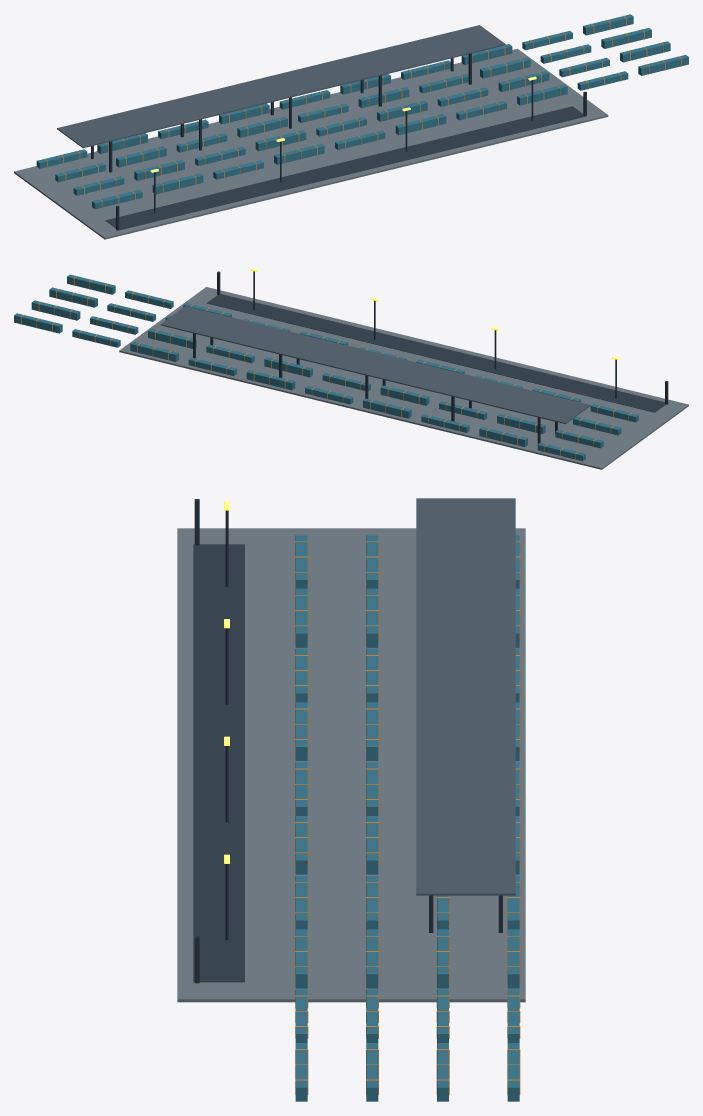
Rendered from steel-stockyard-high.glb.
3 views of the same model, one above another, from view 1: azimuth 30°, elevation 25°; view 2: azimuth 150°, elevation 25°; view 3: azimuth 270°, elevation 25° (orthographic). The views are drawn at different scales.
Visible parts, largest first — view 1: stockyard_slab, open_shed_roof, stockyard_lane, steel_bundle.019, steel_bundle.021, steel_bundle.027, steel_bundle.039, steel_bundle.023, steel_bundle.029, steel_bundle.007, steel_bundle.001, steel_bundle.009 (+31 smaller); view 2: stockyard_slab, open_shed_roof, stockyard_lane, steel_bundle.023, steel_bundle.029, steel_bundle.035, steel_bundle.009, steel_bundle.033, steel_bundle.037, steel_bundle.039, steel_bundle.031, steel_bundle.019 (+17 smaller); view 3: stockyard_slab, open_shed_roof, stockyard_lane.
Boxes of the visible parts, x1=… form: stockyard_slab: x1=14, y1=48, x2=608, y2=239; open_shed_roof: x1=57, y1=25, x2=505, y2=148; stockyard_lane: x1=105, y1=106, x2=586, y2=230; steel_bundle.019: x1=620, y1=41, x2=670, y2=62; steel_bundle.021: x1=116, y1=146, x2=166, y2=167; steel_bundle.027: x1=480, y1=57, x2=530, y2=78; steel_bundle.039: x1=583, y1=14, x2=633, y2=35; steel_bundle.023: x1=237, y1=116, x2=287, y2=137; steel_bundle.029: x1=601, y1=28, x2=651, y2=48; steel_bundle.007: x1=517, y1=84, x2=567, y2=105; steel_bundle.001: x1=152, y1=173, x2=203, y2=194; steel_bundle.009: x1=638, y1=55, x2=688, y2=75; stockyard_slab: x1=119, y1=287, x2=688, y2=469; open_shed_roof: x1=160, y1=306, x2=590, y2=423; stockyard_lane: x1=207, y1=294, x2=665, y2=412; steel_bundle.023: x1=380, y1=385, x2=429, y2=405; steel_bundle.029: x1=31, y1=300, x2=80, y2=320; steel_bundle.035: x1=246, y1=370, x2=295, y2=390; steel_bundle.009: x1=67, y1=274, x2=115, y2=294; steel_bundle.033: x1=363, y1=398, x2=411, y2=418; steel_bundle.037: x1=130, y1=341, x2=178, y2=361; steel_bundle.039: x1=14, y1=313, x2=62, y2=333; steel_bundle.031: x1=479, y1=427, x2=527, y2=446; steel_bundle.019: x1=49, y1=287, x2=97, y2=307; stockyard_slab: x1=177, y1=528, x2=525, y2=1002; open_shed_roof: x1=416, y1=498, x2=515, y2=895; stockyard_lane: x1=193, y1=544, x2=244, y2=982.
Bounding box in the file's own units: 137 × 9.51 × 35.
